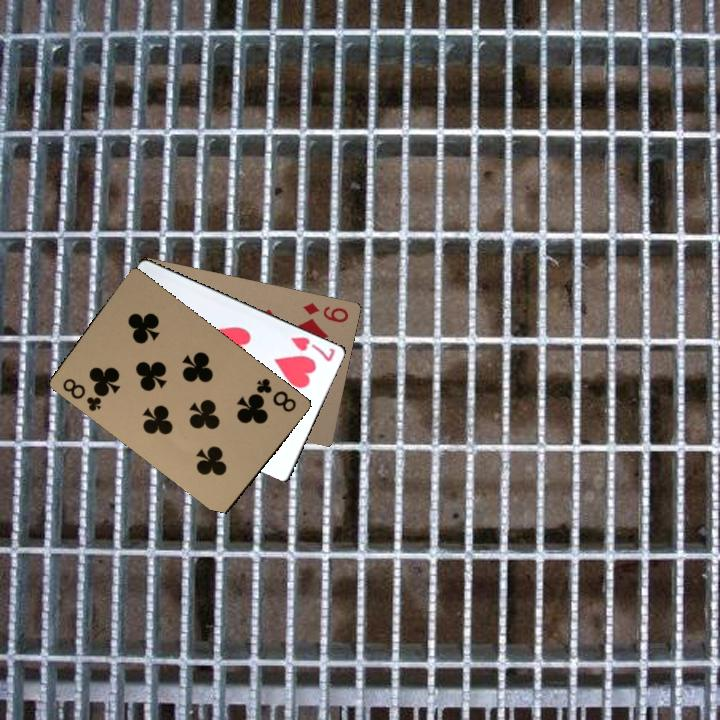7h: (287, 333, 338, 364)
8c: (58, 374, 107, 414), (252, 374, 299, 415)
9d: (299, 299, 351, 325)
